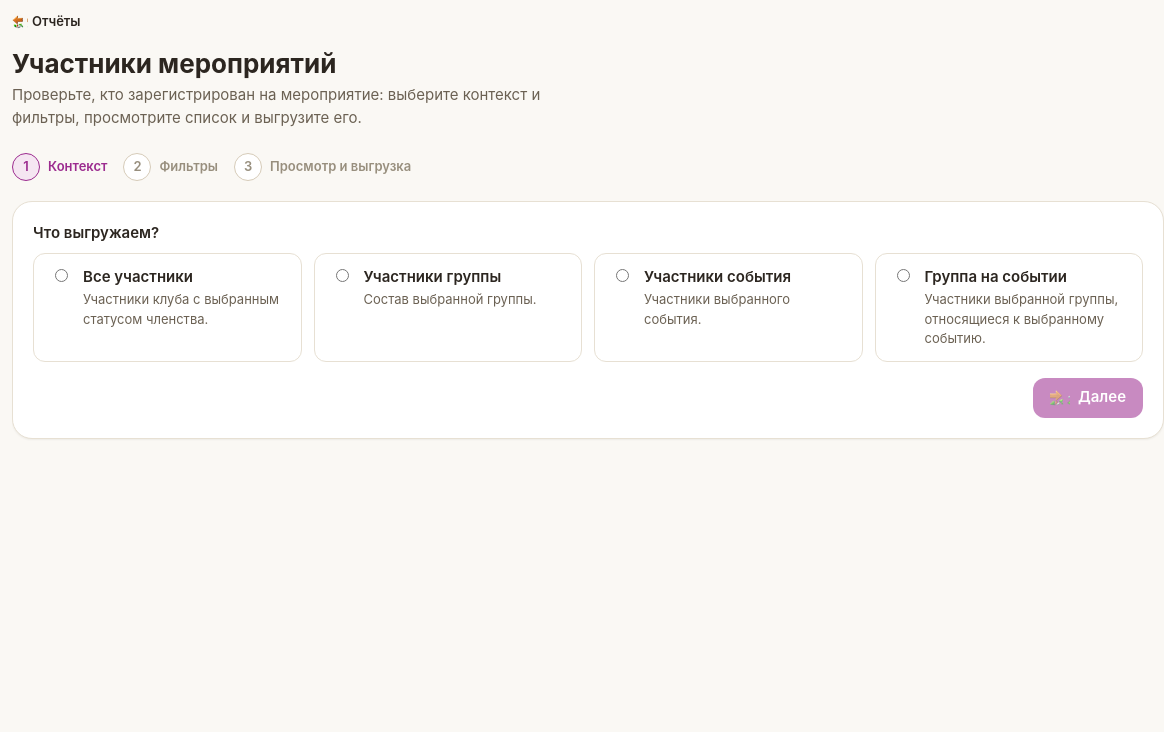
Test: «Участники мероприятий» — preview › previews one backend page of the selection with the minimum report columns
Click the radio button labelled "Группа на событии" at point(903, 275), box [896,268,910,282]
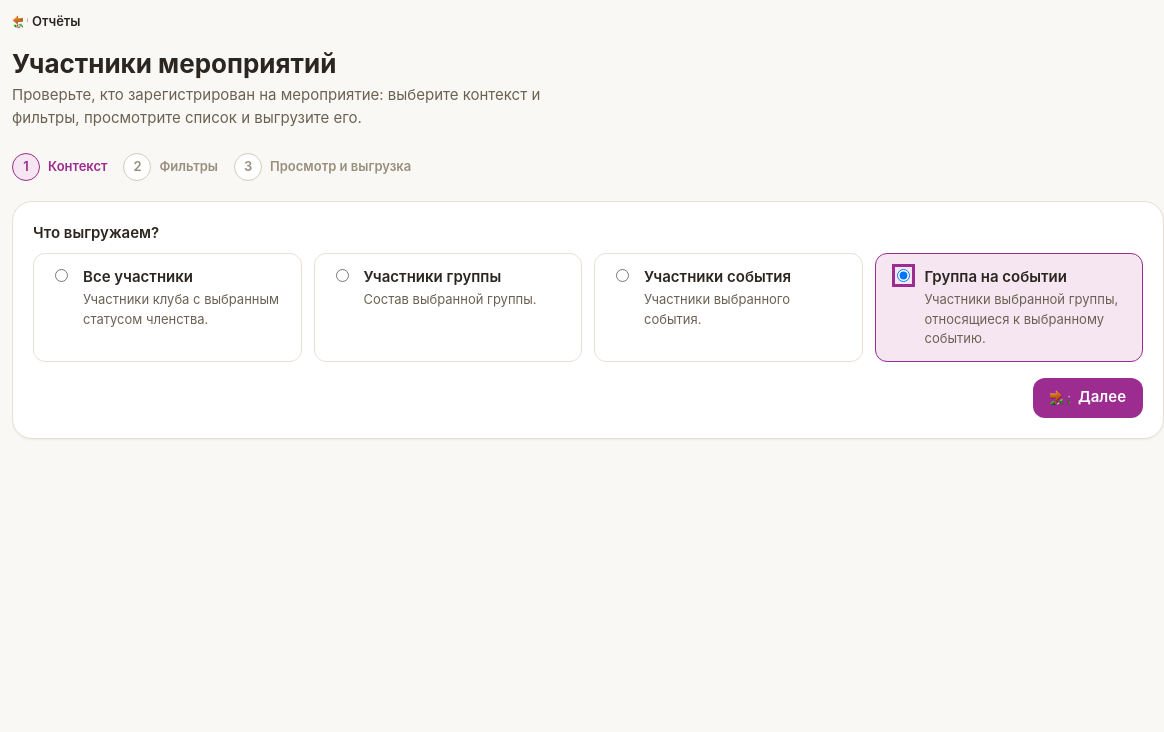
Click the button "Далее" at point(1088, 398), box [1033,378,1143,418]
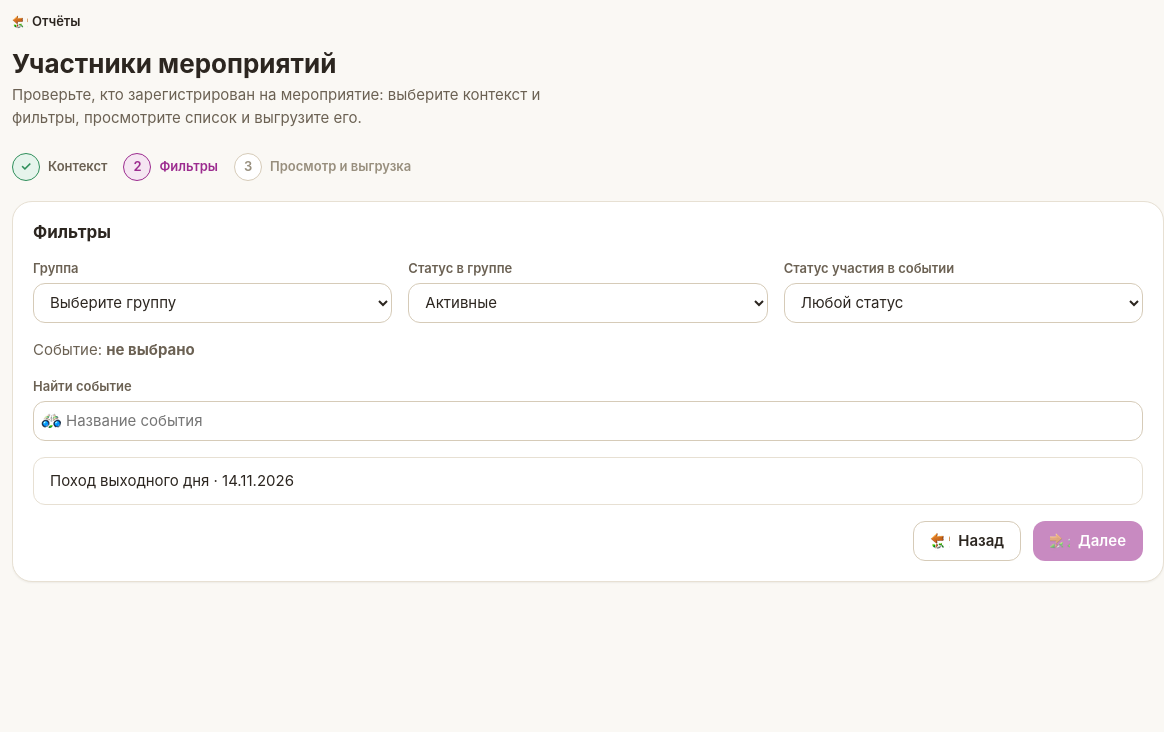
Select "Юные туристы" in the dropdown labelled "Группа" at point(213, 303), box [33,283,392,323]
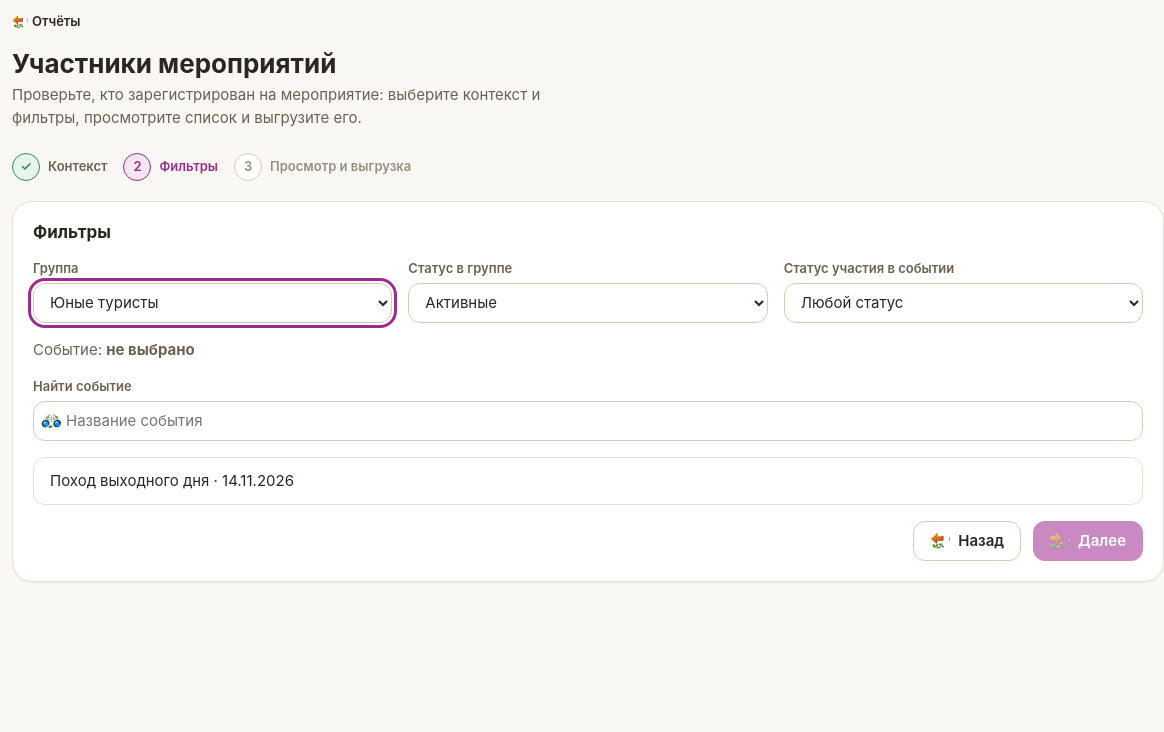
Click the button "Поход выходного дня · 14.11.2026" at point(130, 480), box [38,462,1138,500]
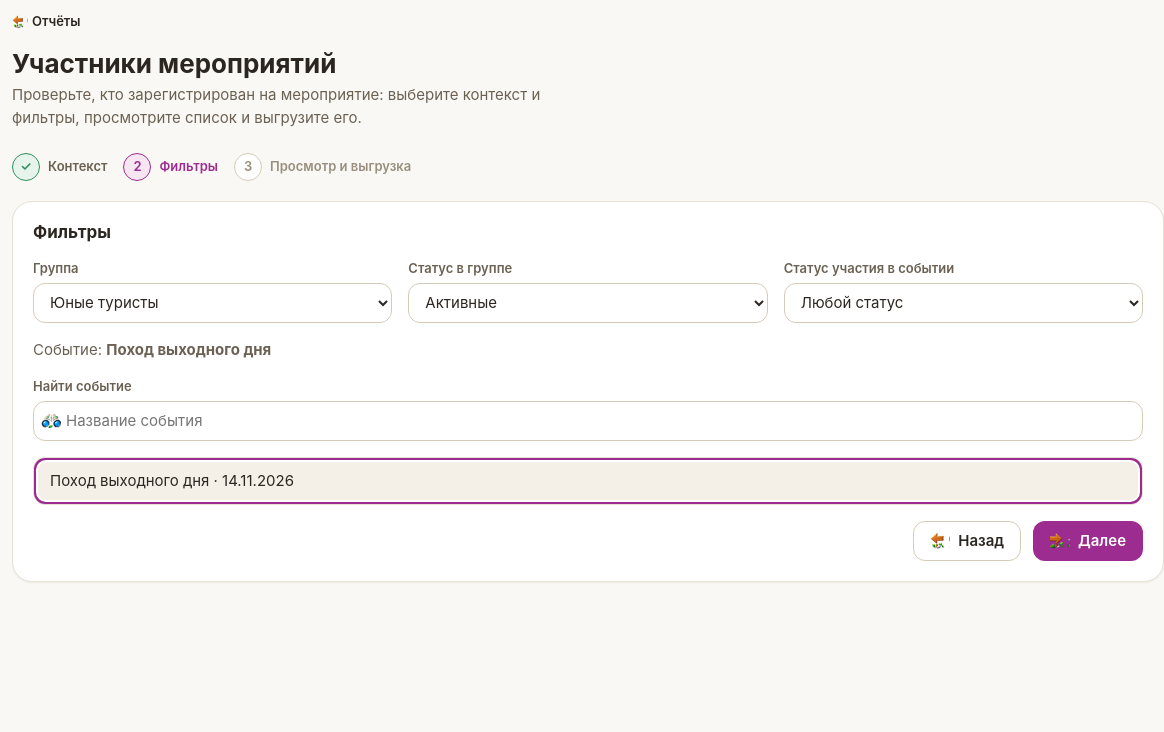
Select "Регистрация отменена (backend)" in the dropdown labelled "Статус участия в событии" at point(963, 303), box [784,283,1143,323]
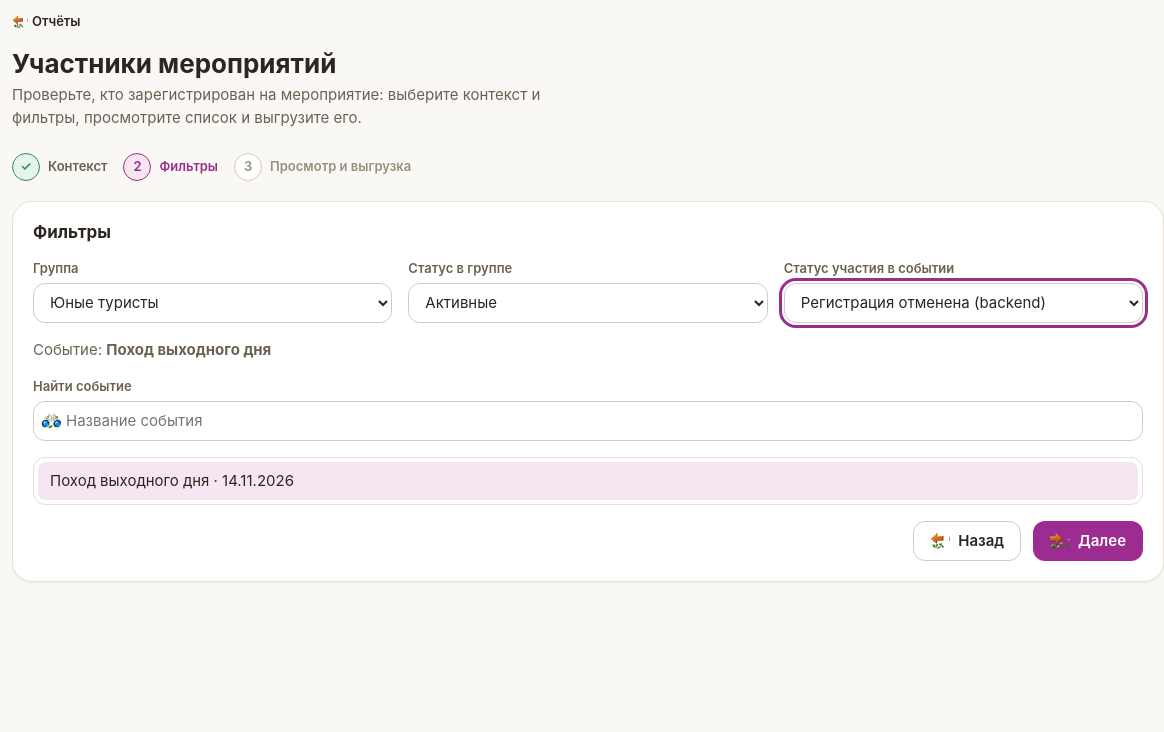
Click the button "Далее" at point(1088, 541), box [1033,521,1143,561]
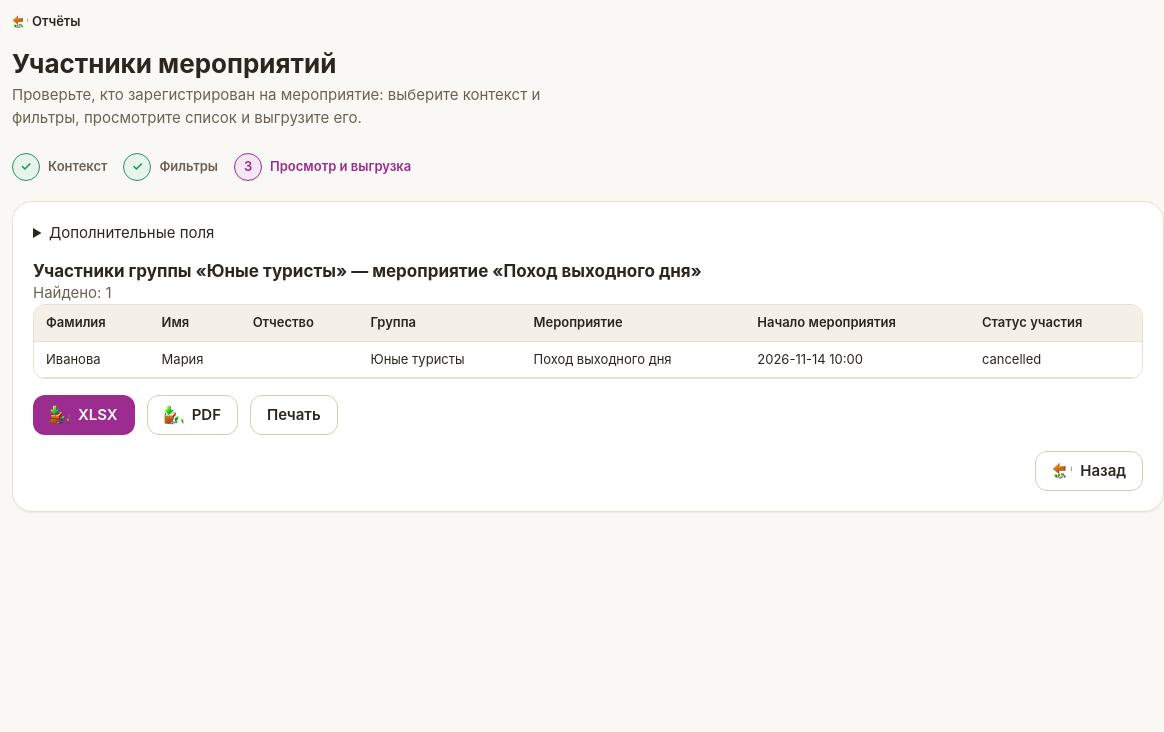
Check: the 3rd heading is shown, box [33,260,702,280]
Check: the text "Найдено: 1" is shown, box [33,283,112,302]
